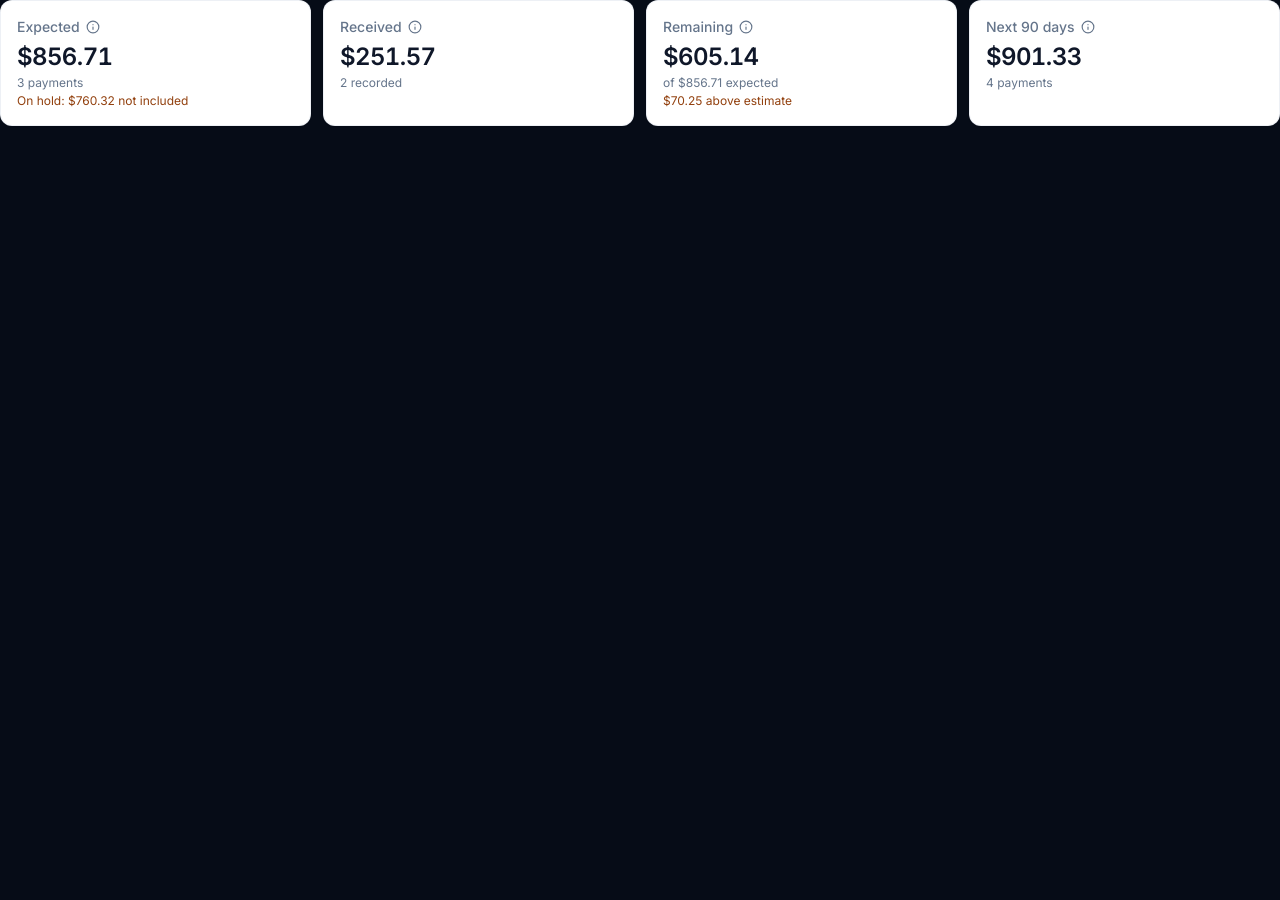
Test: Overview › Next 90 days explains its own range in its tooltip
This screenshot has width=1280, height=900.
Click the button named "About Next 90 days": (1088, 27) [1079,18,1097,36]
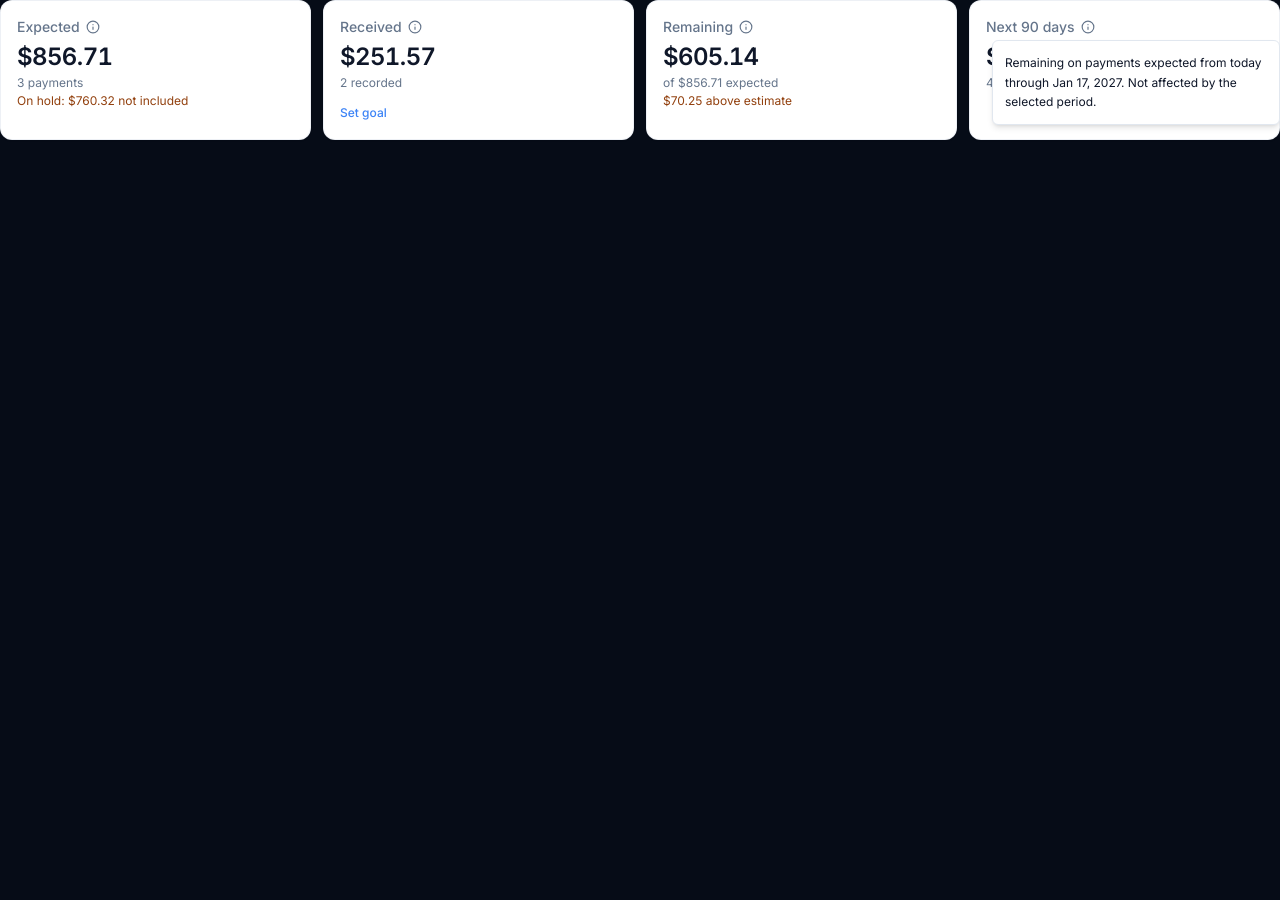
Now the text "Remaining on payments expected from today through Jan 17, 2027. Not affected by the selected period." is shown, box [1005,55,1262,109]
